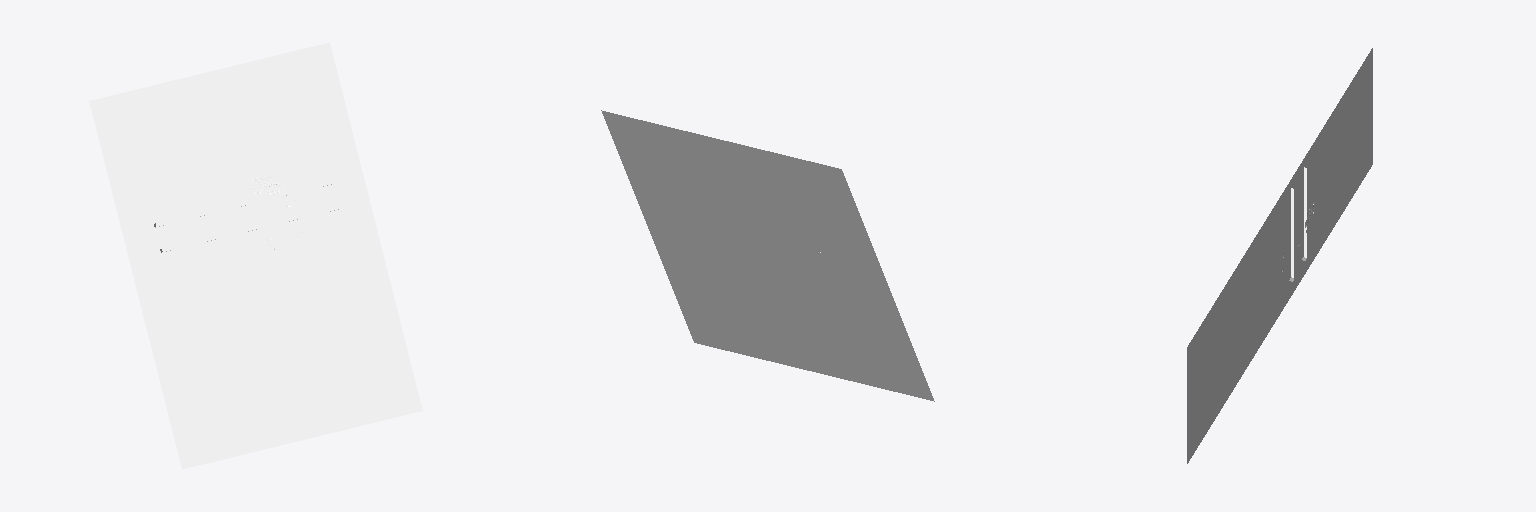
The model's file is Thing_1.obj.
3 views of the same model, side by side, from view 1: azimuth 30°, elevation 25°; view 2: azimuth 150°, elevation 25°; view 3: azimuth 270°, elevation 25° (orthographic).
Parts seen in each view (by area): view 1: Mesh817_Group181_Group178_Group_50_3_Model, Mesh819_Group183_Group182_Group178_Group_50_3_Model, Mesh820_Group184_Group182_Group178_Group_50_3_Model; view 2: Mesh817_Group181_Group178_Group_50_3_Model; view 3: Mesh817_Group181_Group178_Group_50_3_Model.
Part boxes in pixels (left/top/right/bottom): Mesh817_Group181_Group178_Group_50_3_Model: left=89, top=42, right=422, bottom=469; Mesh819_Group183_Group182_Group178_Group_50_3_Model: left=160, top=204, right=346, bottom=252; Mesh820_Group184_Group182_Group178_Group_50_3_Model: left=154, top=179, right=339, bottom=227; Mesh817_Group181_Group178_Group_50_3_Model: left=601, top=110, right=934, bottom=401; Mesh817_Group181_Group178_Group_50_3_Model: left=1187, top=48, right=1372, bottom=463.
Bounding box in the file's own units: 3.8 × 4.53 × 2.54.